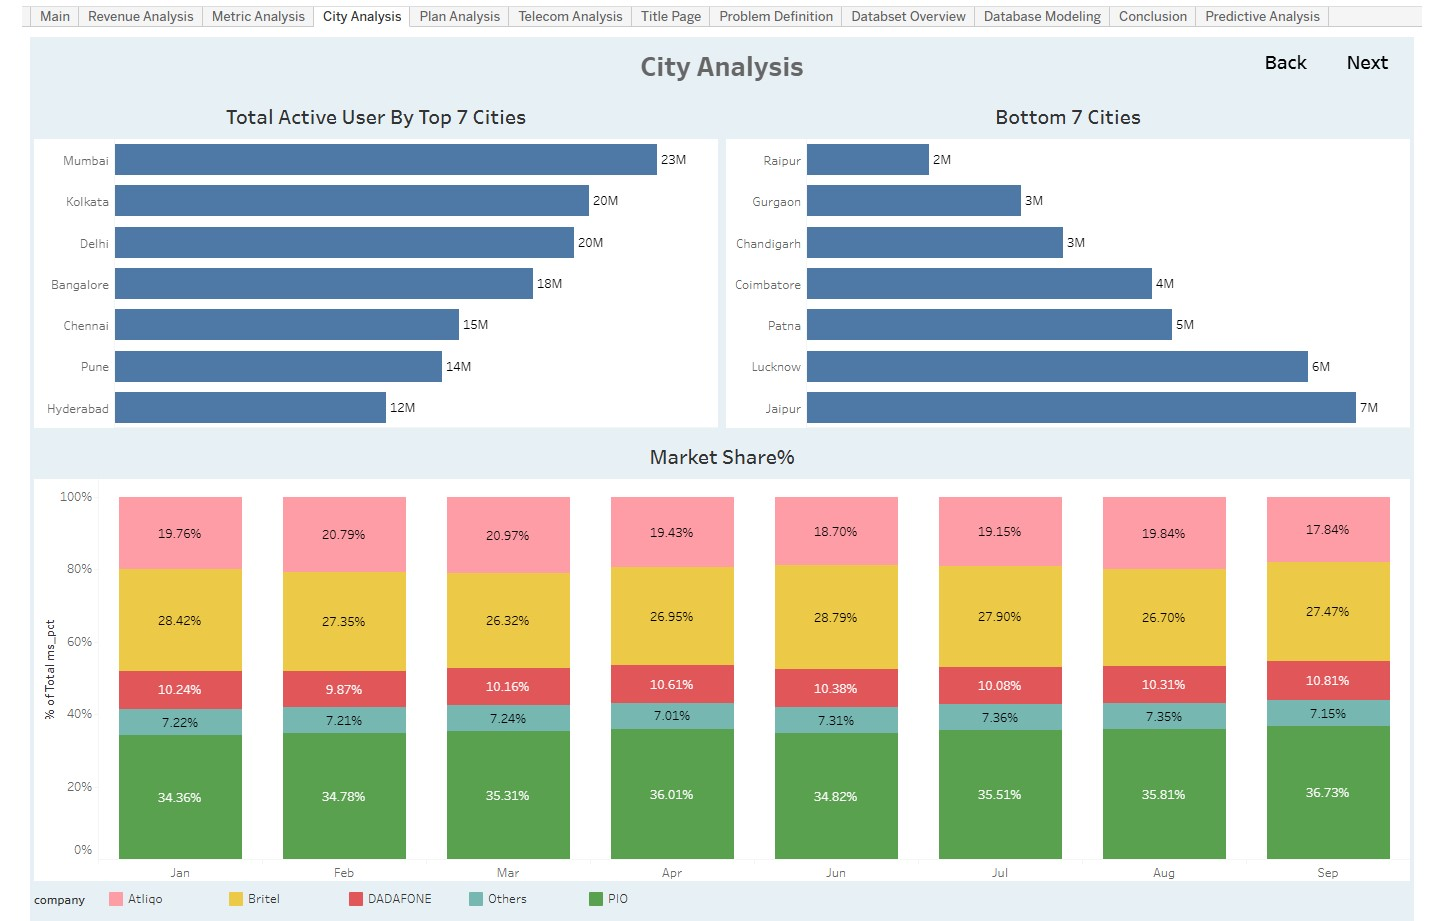

The dashboard page shown, as its layout file describes it:
{"tool":"tableau","page":{"name":"City Analysis","canvas":[1400,900],"ordinal":0},"visuals":[{"type":"text","box":[8,8,1384,55]},{"type":"dashboard-object","box":[1224,19,79,26]},{"type":"dashboard-object","box":[1306,19,79,26]},{"type":"worksheet","title":"Top 5 Cities","mark":"Automatic","rows":["city_name"],"cols":["Calculation_753508526968147969"],"box":[8,63,692,340]},{"type":"worksheet","title":"Bottom 5 Cities","mark":"Automatic","rows":["city_name"],"cols":["Calculation_753508526968147969"],"box":[700,63,692,340]},{"type":"worksheet","title":"Avg Percentage of MS","mark":"Automatic","cols":["month_name"],"box":[8,403,1384,452.9]},{"type":"legend","title":"Avg Percentage of MS","param":"[federated.1xnnmtp1ifbk15172wgz91ijsf5h].[none:company:nk]","box":[8,855.9,1384,36.1]}]}

Visuals, with their boxes on the page's 1400x900 design canvas (x1, y1, x2, y2). These are canvas units, not pixel positions in the 1429x921 screenshot, which may show the page scaled, cropped or inside an application window:
text: box(8, 8, 1392, 63)
dashboard-object: box(1224, 19, 1303, 45)
dashboard-object: box(1306, 19, 1385, 45)
"Top 5 Cities" worksheet: box(8, 63, 700, 403)
"Bottom 5 Cities" worksheet: box(700, 63, 1392, 403)
"Avg Percentage of MS" worksheet: box(8, 403, 1392, 856)
"Avg Percentage of MS" legend: box(8, 856, 1392, 892)
